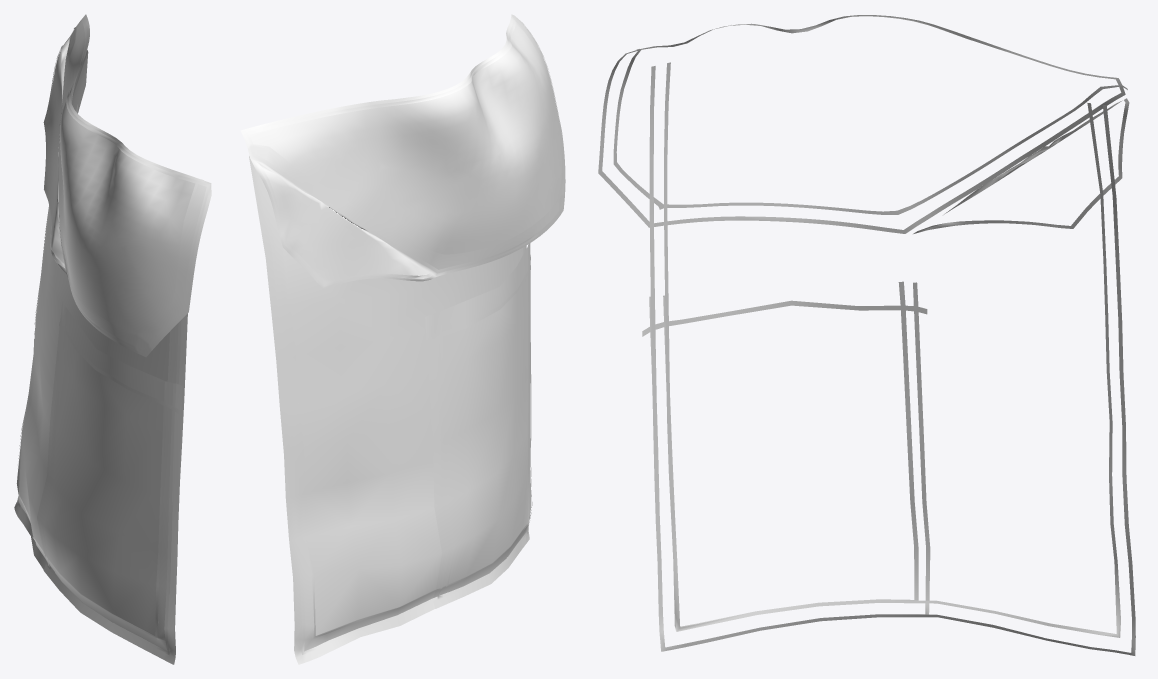
Rendered from Pants_Pocket_Left_V1.glb.
The picture shows the model from 3 angles, left to right: view 1: azimuth 30°, elevation 25°; view 2: azimuth 150°, elevation 25°; view 3: azimuth 270°, elevation 25°; orthographic projection. The views are drawn at different scales.
Parts seen in each view (by area): view 1: Pants_Pocket_Left.001, Pants_Rope_Pocket_Left.001; view 2: Pants_Pocket_Left.001, Pants_Rope_Pocket_Left.001; view 3: Pants_Rope_Pocket_Left.001, Pants_Pocket_Left.001.
Boxes of the visible parts, x1=… form: Pants_Pocket_Left.001: x1=14, y1=14, x2=211, y2=664; Pants_Rope_Pocket_Left.001: x1=16, y1=18, x2=210, y2=654; Pants_Pocket_Left.001: x1=240, y1=14, x2=564, y2=664; Pants_Rope_Pocket_Left.001: x1=245, y1=15, x2=565, y2=654; Pants_Rope_Pocket_Left.001: x1=598, y1=15, x2=1135, y2=655; Pants_Pocket_Left.001: x1=722, y1=23, x2=1122, y2=230.
Bounding box in the file's own units: 0.0805 × 0.2858 × 0.2208.
Materials: 2 (2 with a texture image).
